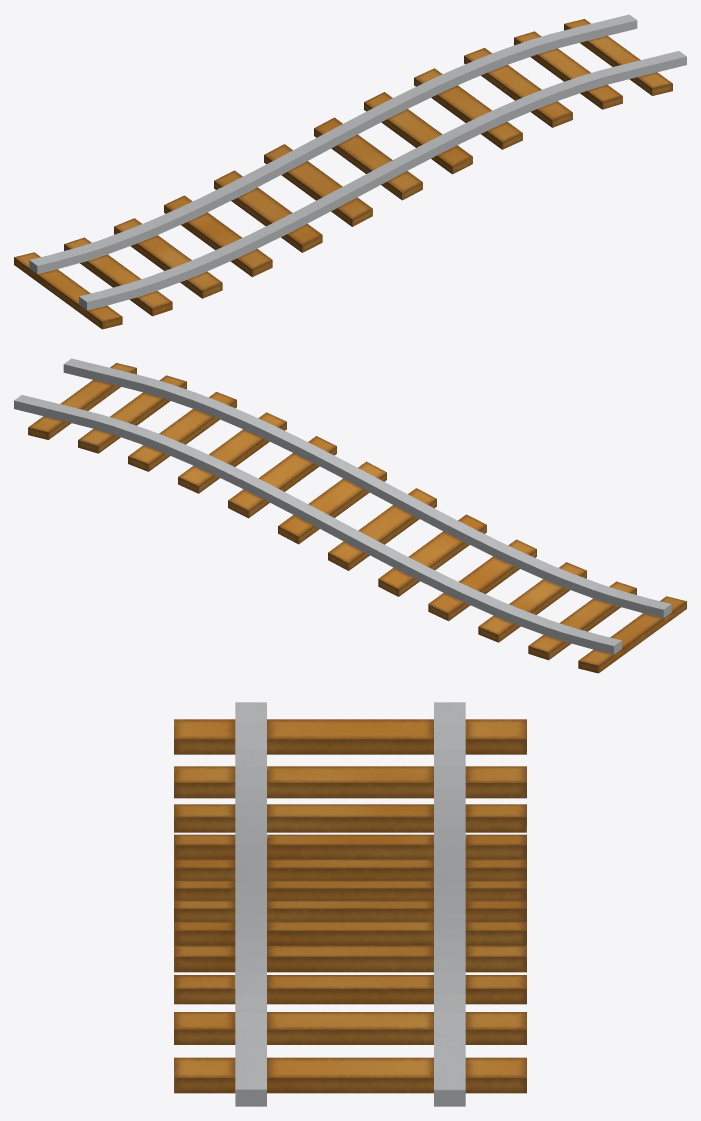
Rendered from raildown.fbx.
3 renders of one model, top to bottom at view 1: azimuth 30°, elevation 25°; view 2: azimuth 150°, elevation 25°; view 3: azimuth 270°, elevation 25°, orthographic. The views are drawn at different scales.
Visible parts, largest first — view 1: raildown; view 2: raildown; view 3: raildown.
Boxes of the visible parts, bbox=[...] form: raildown: bbox=[14, 14, 686, 329]; raildown: bbox=[14, 358, 686, 673]; raildown: bbox=[174, 702, 526, 1106].
Bounding box in the file's own units: 5.88 × 1.08 × 1.5.
